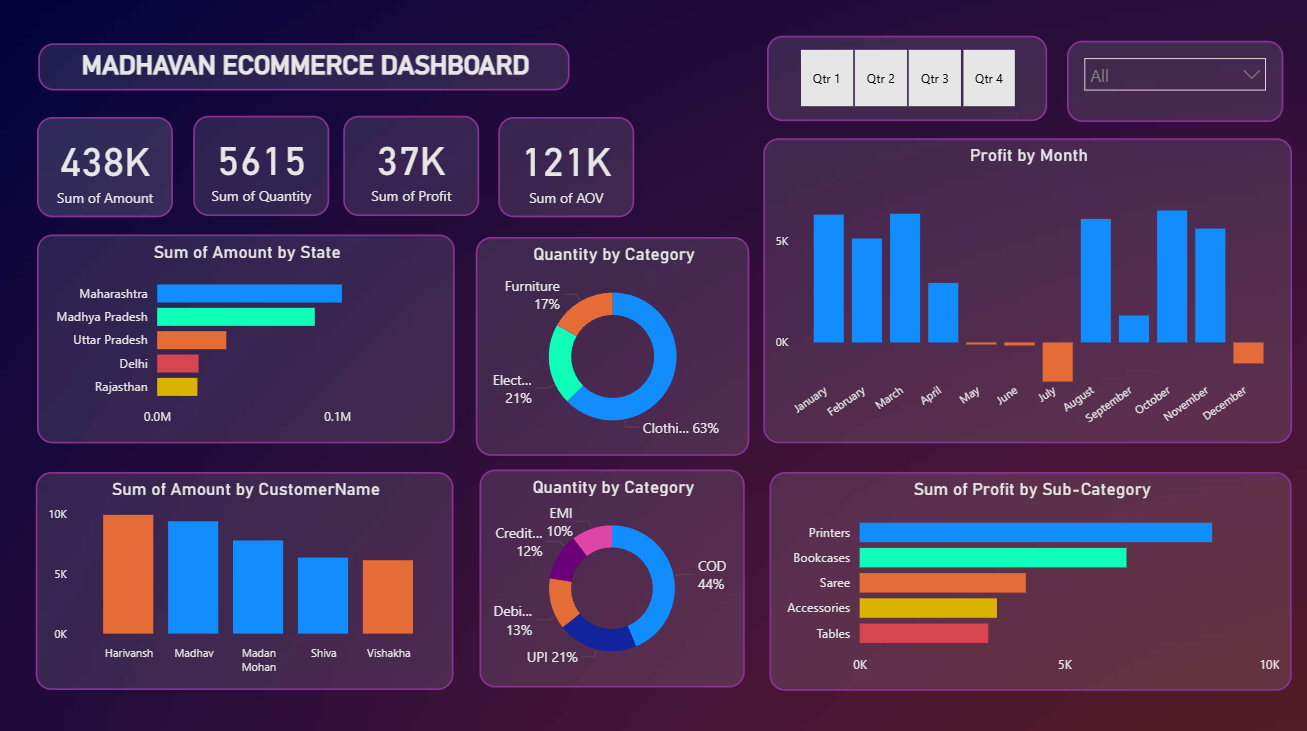

What the dashboard file says about the page in this screenshot:
{"tool":"powerbi","page":{"name":"Page 1","canvas":[1280,720],"ordinal":0},"visuals":[{"type":"textbox","title":"MADHAVAN ECOMMERCE DASHBOARD","box":[54,54.9,512.9,45.7],"z":0},{"type":"columnChart","title":"Profit by Month","fields":{"Y":["Sum(Details.Profit)"],"Category":["Orders.Order Date.Variation.Date Hierarchy.Month"]},"box":[754.3,145.7,510,294.3],"z":1000},{"type":"barChart","fields":{"Category":["Details.Sub-Category"],"Y":["Sum(Details.Profit)"]},"box":[760,468.6,504.3,211.4],"z":2000},{"type":"donutChart","title":" Quantity by Category","fields":{"Category":["Details.Category"],"Y":["Sum(Details.Quantity)"]},"box":[476.6,241.1,264.3,211.4],"z":3000},{"type":"donutChart","title":" Quantity by Category","fields":{"Y":["Sum(Details.Quantity)"],"Category":["Details.PaymentMode"]},"box":[480,465.7,255.7,210],"z":4000},{"type":"card","fields":{"Values":["Sum(Details.Amount)"]},"box":[52.9,125.7,131.4,97.1],"z":5000},{"type":"card","fields":{"Values":["Sum(Details.Quantity)"]},"box":[204.3,124.3,131.4,97.1],"z":6000},{"type":"card","fields":{"Values":["Sum(Details.Profit)"]},"box":[348.6,124.3,131.4,97.1],"z":7000},{"type":"card","fields":{"Values":["Sum(Details.AOV)"]},"box":[498.6,125.7,131.4,97.1],"z":8000},{"type":"barChart","fields":{"Y":["Sum(Details.Amount)"],"Category":["Orders.State"]},"box":[53.1,239.1,402.9,201.4],"z":9000},{"type":"columnChart","fields":{"Category":["Orders.CustomerName"],"Y":["Sum(Details.Amount)"]},"box":[51.7,468,402.9,210],"z":10000},{"type":"slicer","fields":{"Values":["Orders.Order Date.Variation.Date Hierarchy.Quarter"]},"box":[757.1,47.4,270,82.6],"z":10001},{"type":"slicer","fields":{"Values":["Orders.State"]},"box":[1047.1,52,208.6,78],"z":10002}]}

Visuals, with their boxes in screenshot pixels (x1, y1, x2, y2), scaled from the page's 1280x720 canvas onto the 1307x731 screenshot:
"MADHAVAN ECOMMERCE DASHBOARD" textbox: 55 56 579 102
"Profit by Month" columnChart: 770 148 1291 447
barChart - Details.Sub-Category x Sum(Details.Profit): 776 476 1291 690
" Quantity by Category" donutChart: 487 245 757 459
" Quantity by Category" donutChart: 490 473 751 686
card - Sum(Details.Amount): 54 128 188 226
card - Sum(Details.Quantity): 209 126 343 225
card - Sum(Details.Profit): 356 126 490 225
card - Sum(Details.AOV): 509 128 643 226
barChart - Sum(Details.Amount) x Orders.State: 54 243 466 447
columnChart - Orders.CustomerName x Sum(Details.Amount): 53 475 464 688
slicer - Orders.Order Date.Variation.Date Hierarchy.Quarter: 773 48 1049 132
slicer - Orders.State: 1069 53 1282 132
